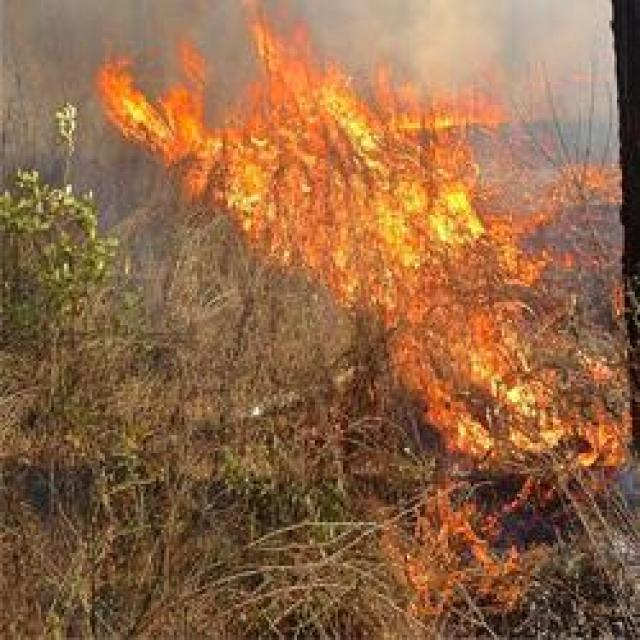fire: (271, 78, 381, 254), (384, 183, 476, 316), (188, 128, 279, 208)
smoke: (374, 0, 621, 95)
